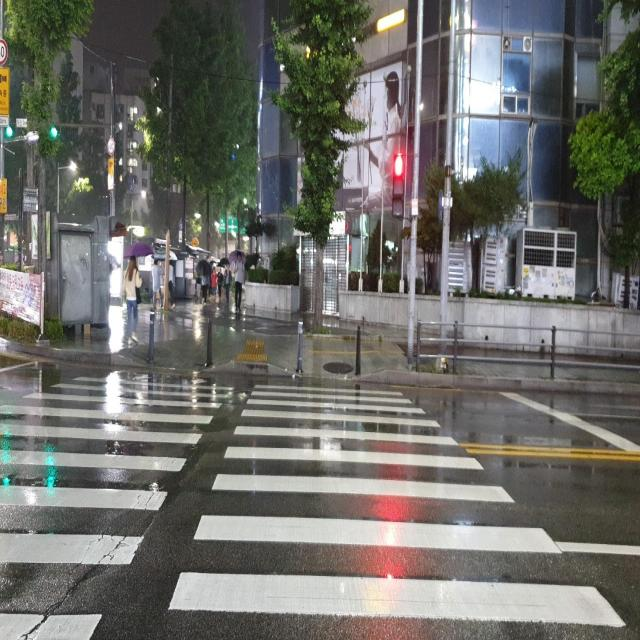빨간불: (394, 155, 404, 222)
횡단보도: (0, 372, 627, 640)
